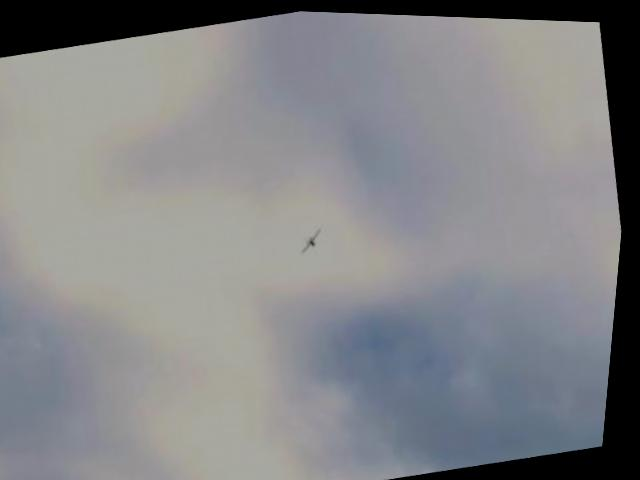uav: (298, 218, 332, 255)
